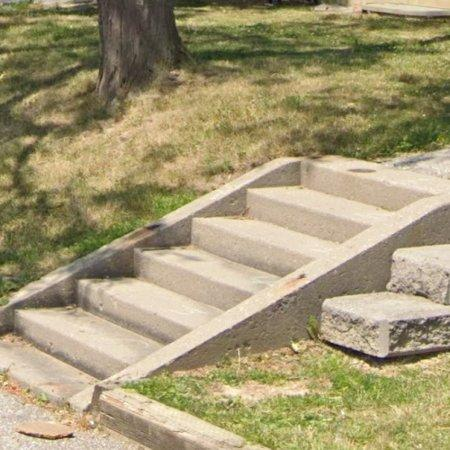stairs: (0, 158, 450, 403)
